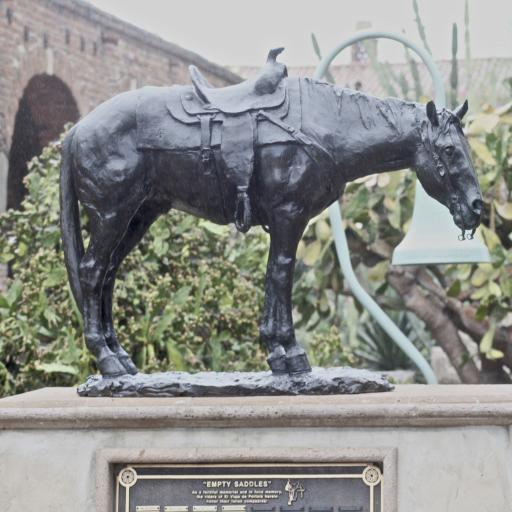Horse: (60, 71, 480, 377)
